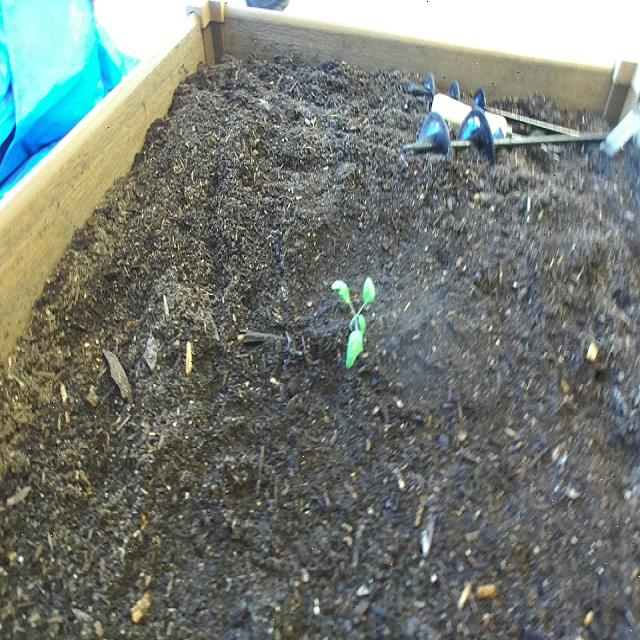Healthy: (324, 263, 379, 378)
